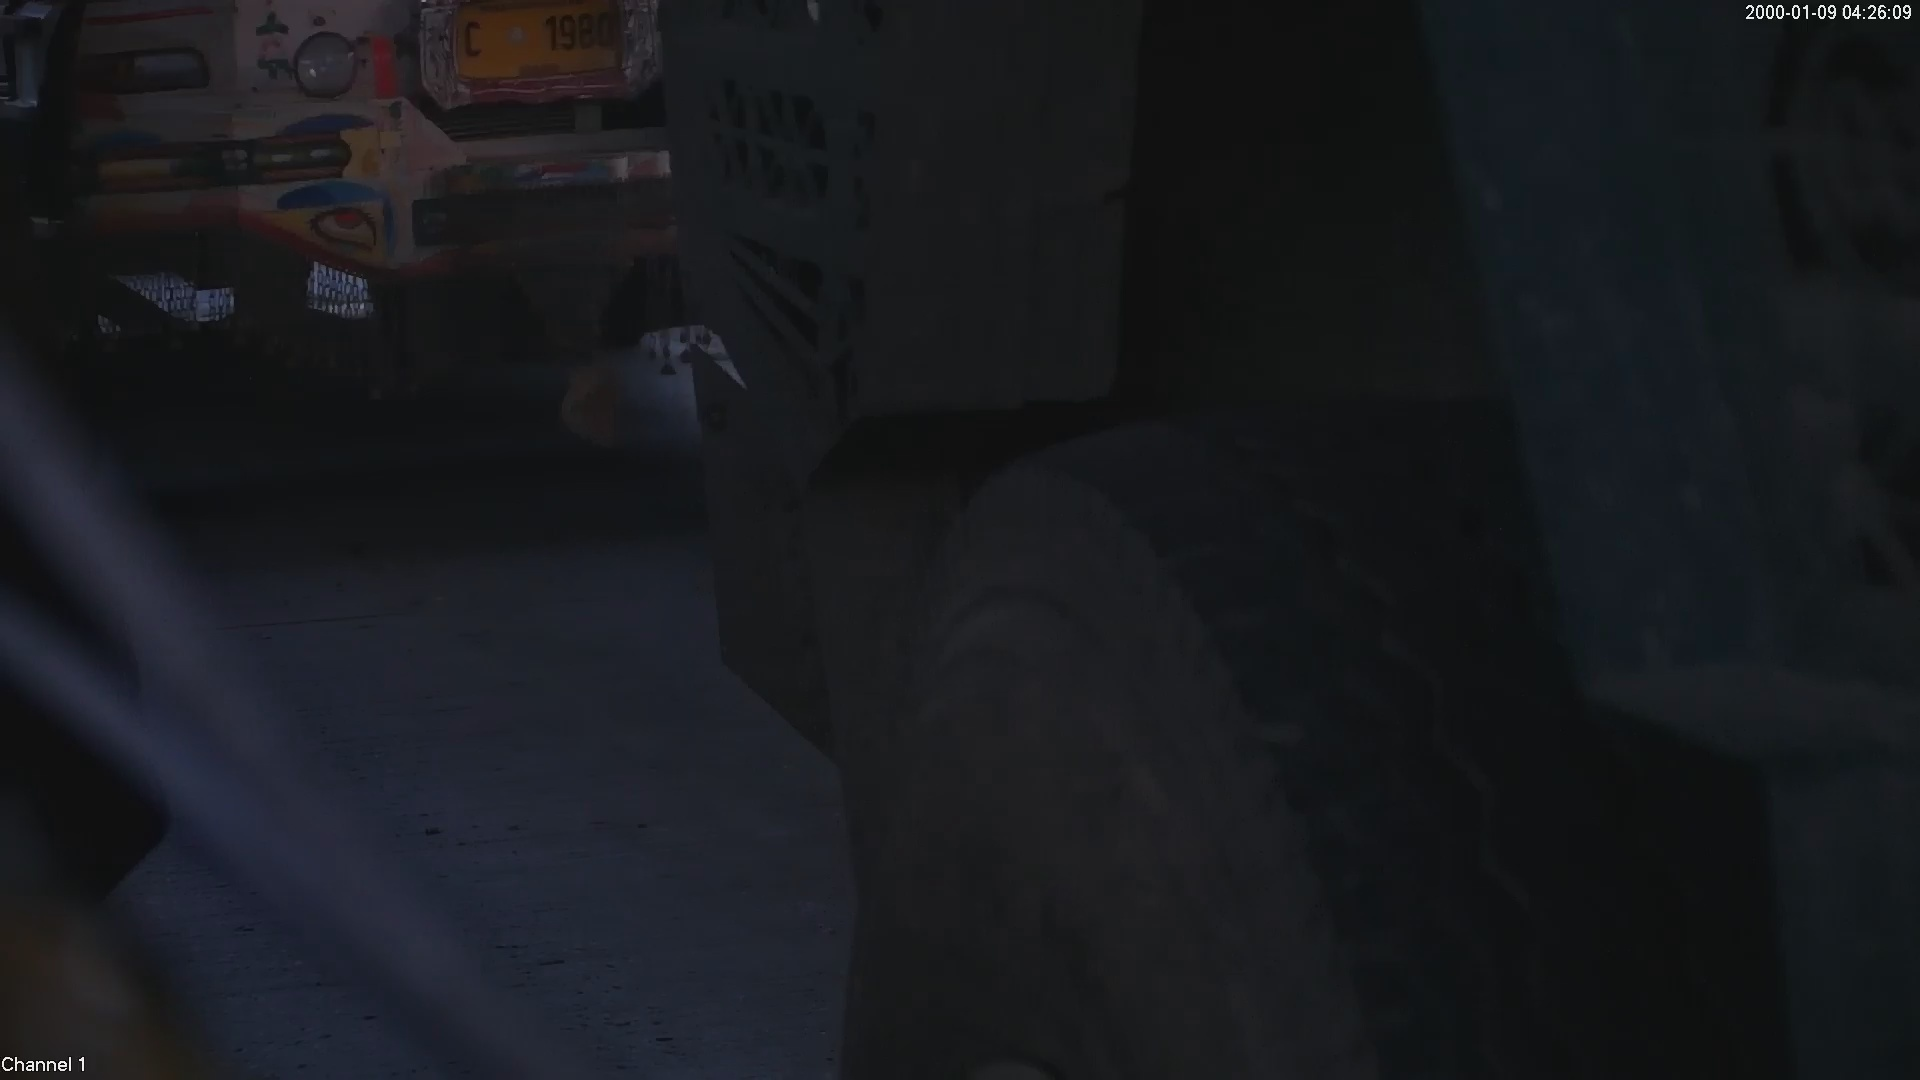Number_Plate: (445, 1, 641, 101)
